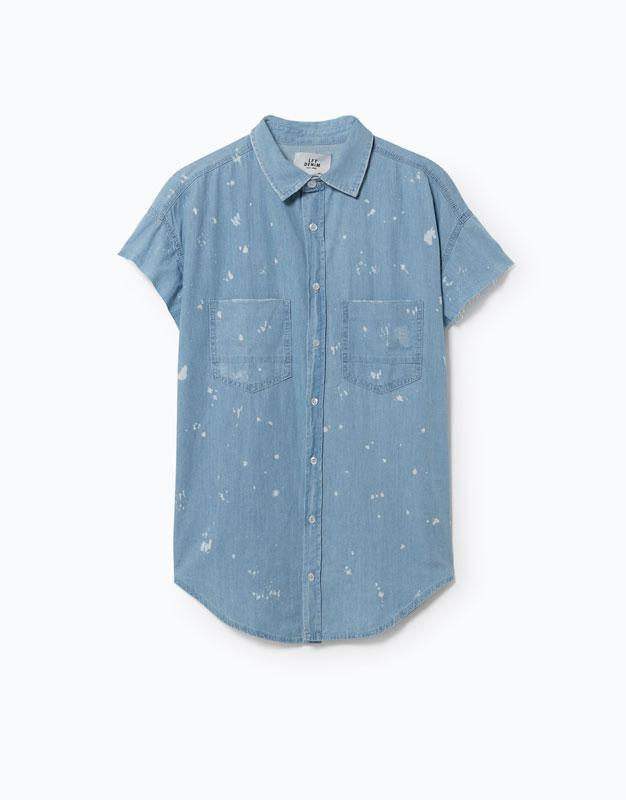teeshirt: (111, 111, 511, 657)
